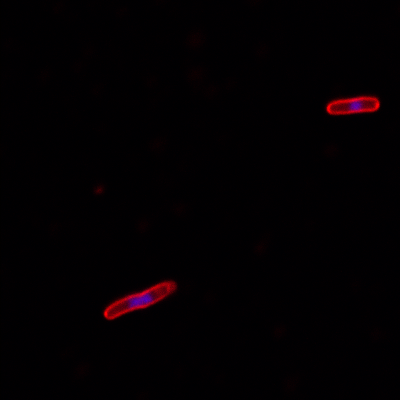Nalidixate: (102, 280, 179, 320), (325, 95, 381, 116)
